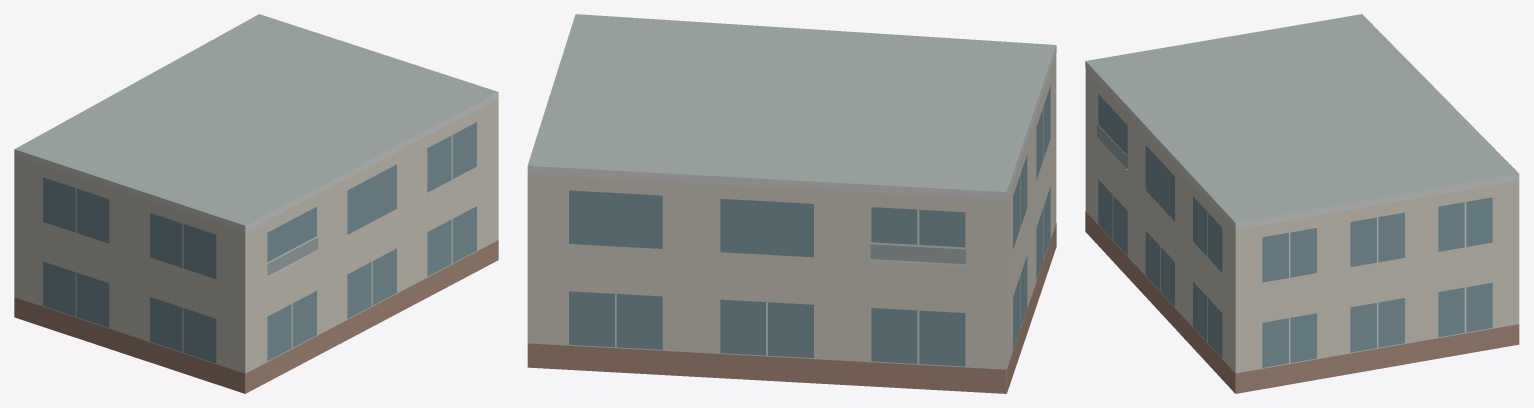
Rendered from survey-upis-32824138.glb.
The picture shows the model from 3 angles, left to right: view 1: azimuth 30°, elevation 25°; view 2: azimuth 150°, elevation 25°; view 3: azimuth 270°, elevation 25°; orthographic projection. The views are drawn at different scales.
Parts seen in each view (by area): view 1: survey-upis-32824138.tmp; view 2: survey-upis-32824138.tmp; view 3: survey-upis-32824138.tmp.
Boxes of the visible parts, x1,y1,x2,y2 form: survey-upis-32824138.tmp: [14, 14, 498, 393]; survey-upis-32824138.tmp: [527, 14, 1056, 393]; survey-upis-32824138.tmp: [1085, 14, 1519, 393].
Size of the model in its own units: 16.02 by 6.1 by 14.05.
